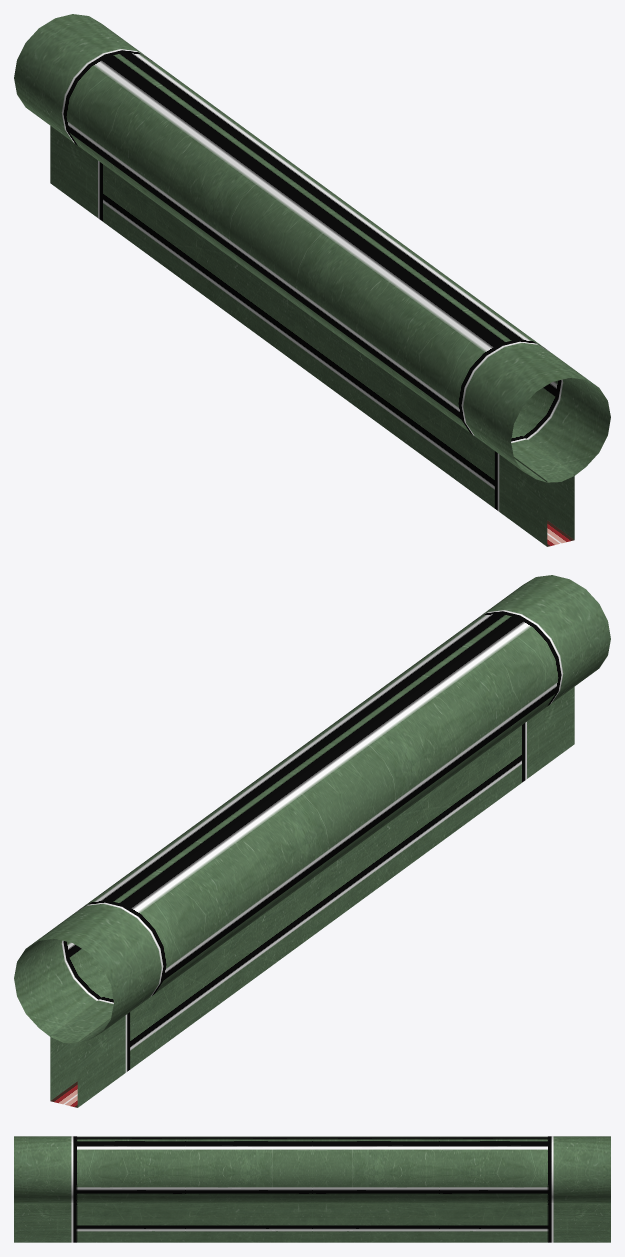
File: SM_CrossBeam01B.fbx
3 renders of one model, top to bottom at view 1: azimuth 30°, elevation 25°; view 2: azimuth 150°, elevation 25°; view 3: azimuth 270°, elevation 25°, orthographic. The views are drawn at different scales.
Visible parts, largest first — view 1: SM_CrossBeam01B; view 2: SM_CrossBeam01B; view 3: SM_CrossBeam01B.
Part boxes in pixels (bbox=[...]): SM_CrossBeam01B: bbox=[14, 14, 610, 546]; SM_CrossBeam01B: bbox=[14, 575, 610, 1107]; SM_CrossBeam01B: bbox=[14, 1136, 610, 1242].
Bounding box in the file's own units: 28.53 × 246 × 44.62.
1 material, 1 textured.
